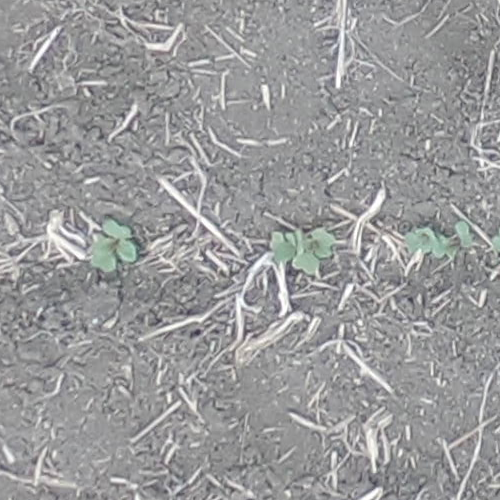isolated: (268, 226, 332, 273), (406, 220, 475, 259), (92, 218, 136, 273), (492, 224, 499, 274)
